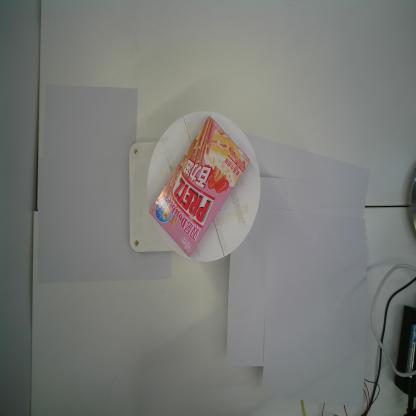Dessert: (148, 116, 251, 258)
